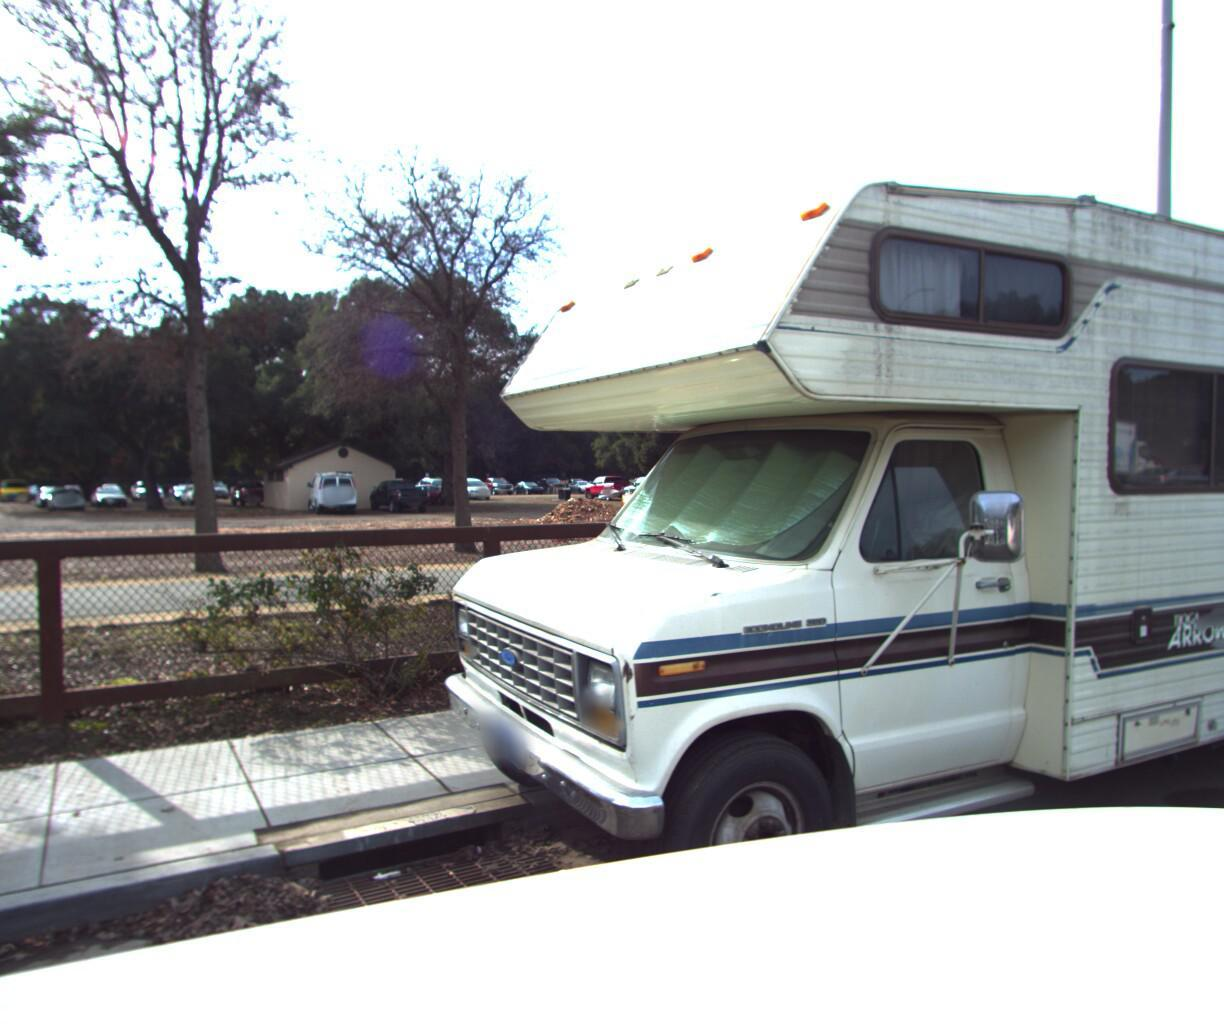other_vehicle: (376, 0, 1224, 1024)
